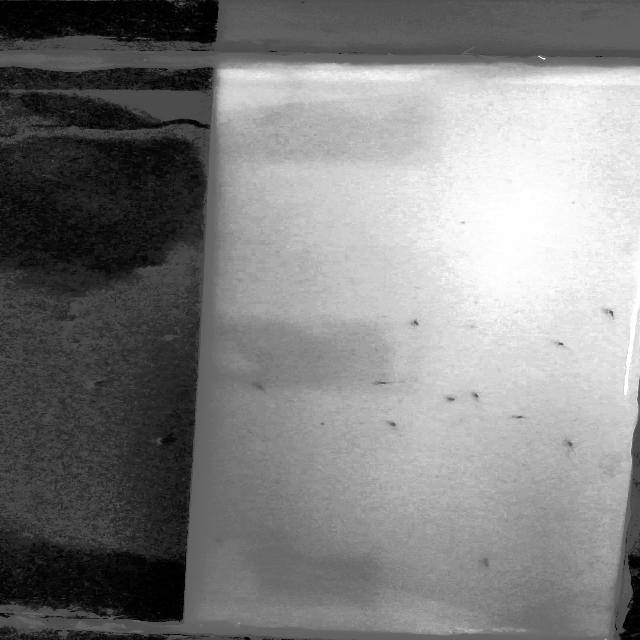shrimp: (374, 414, 416, 439), (243, 378, 278, 396), (402, 315, 432, 333), (596, 306, 626, 322), (472, 389, 492, 408), (373, 378, 396, 394), (438, 391, 461, 406), (546, 339, 570, 353), (560, 438, 584, 452), (513, 412, 538, 423), (210, 535, 229, 548)
